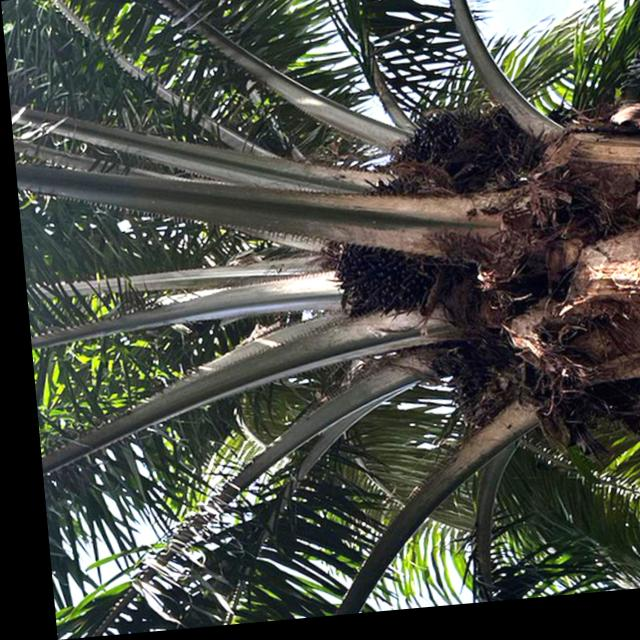unripe: (381, 106, 544, 211), (316, 235, 451, 337)
